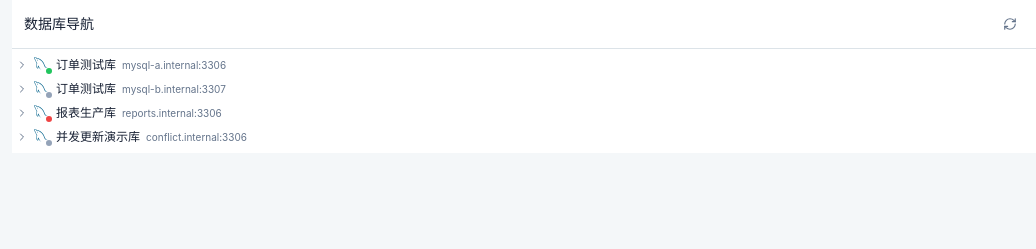
resource navigator › renders every database page after expand
Click the button named "展开 订单测试库 mysql-a.internal:3306" at [22, 65], box [12,53,32,77]
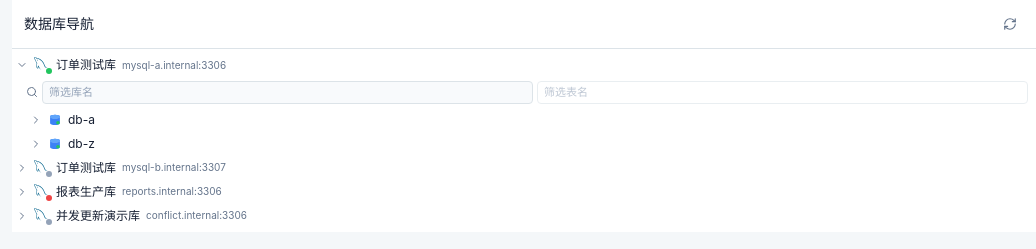
Expected: the element with test id "navigator-database-ds-orders-a-db-a" is shown, [12,108,1035,132]
Expected: the element with test id "navigator-database-ds-orders-a-db-z" is shown, [12,132,1035,156]
